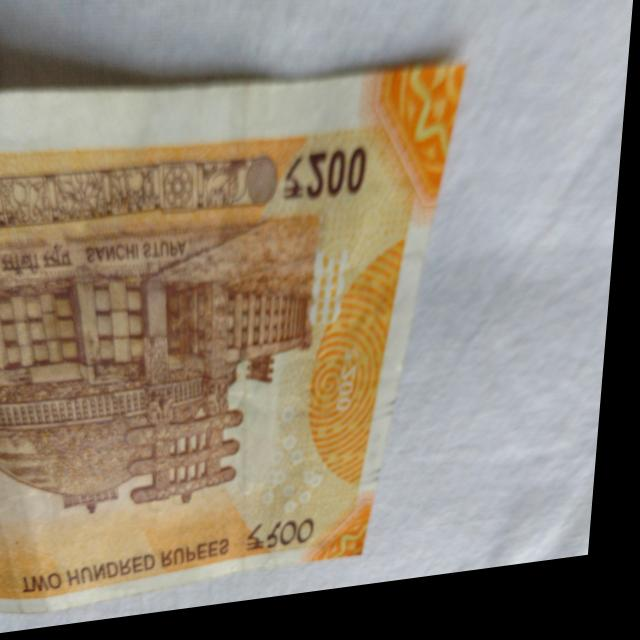Currency: (0, 13, 447, 618)
